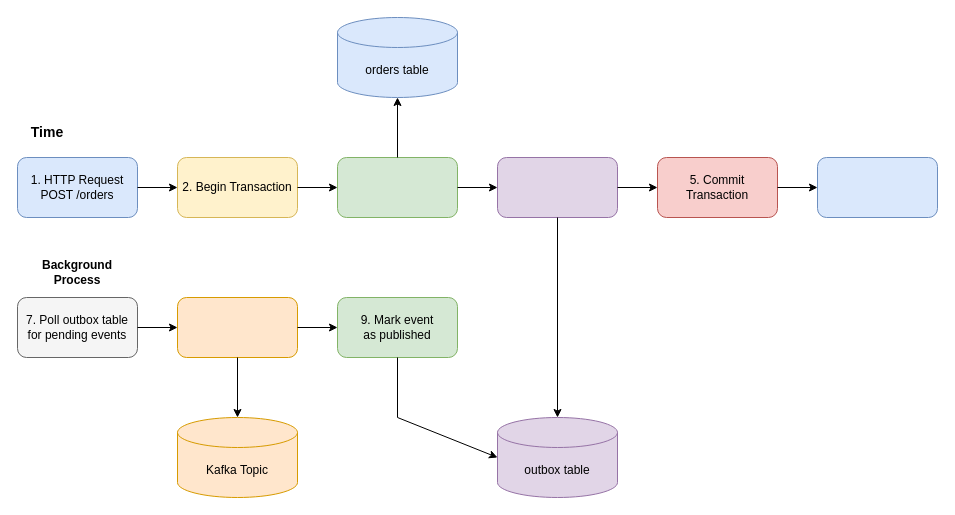
The diagram is 955 pixels wide and 515 high, and some of its shapes have lost their labels. The shapes that lost their labels are listed below. From the top down, each one's centre as x and y in pixels, then its label:
the point at 397,187: 3. Insert Order into orders table
the point at 557,187: 4. Insert Event into outbox table
the point at 877,187: 6. HTTP Response 201 Created
the point at 237,327: 8. Publish event to Kafka topic
